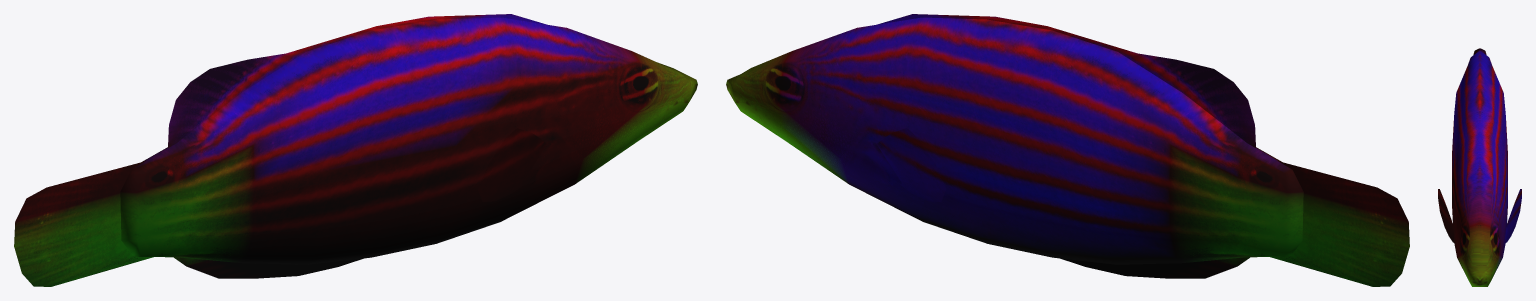
Rendered from six_line_wrasse.glb.
3 views of the same model, side by side, from view 1: azimuth 30°, elevation 25°; view 2: azimuth 150°, elevation 25°; view 3: azimuth 270°, elevation 25° (orthographic). The views are drawn at different scales.
Parts seen in each view (by area): view 1: SixLineWrasse; view 2: SixLineWrasse; view 3: SixLineWrasse.
Part boxes in pixels (bbox=[...]): SixLineWrasse: bbox=[14, 14, 697, 286]; SixLineWrasse: bbox=[726, 14, 1409, 286]; SixLineWrasse: bbox=[1438, 48, 1521, 286].
Size of the model in its own units: 1 by 0.3247 by 0.1502.
1 material, 1 textured.
